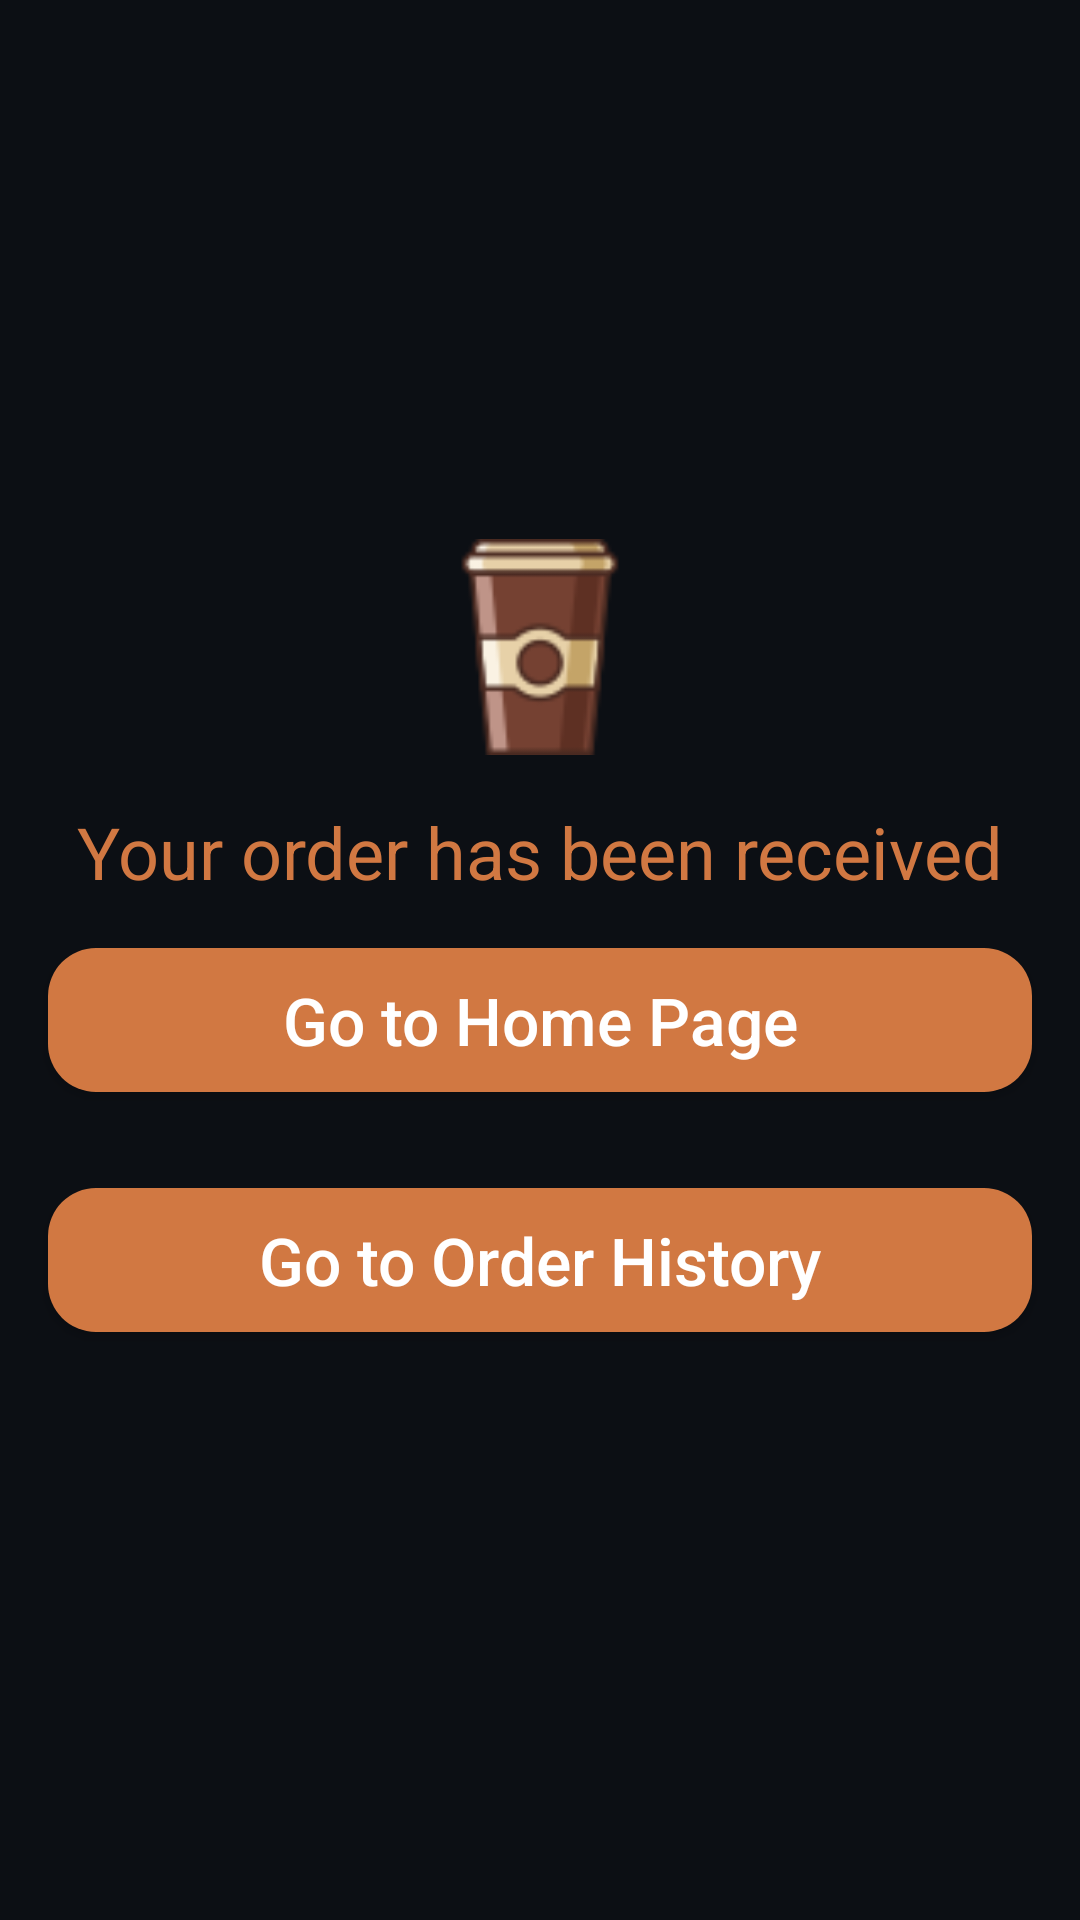

Icons on this 1080 × 1920 Android screen, each with its box as (x1, y1, x2, y2):
coffee: (462, 539, 618, 755)
